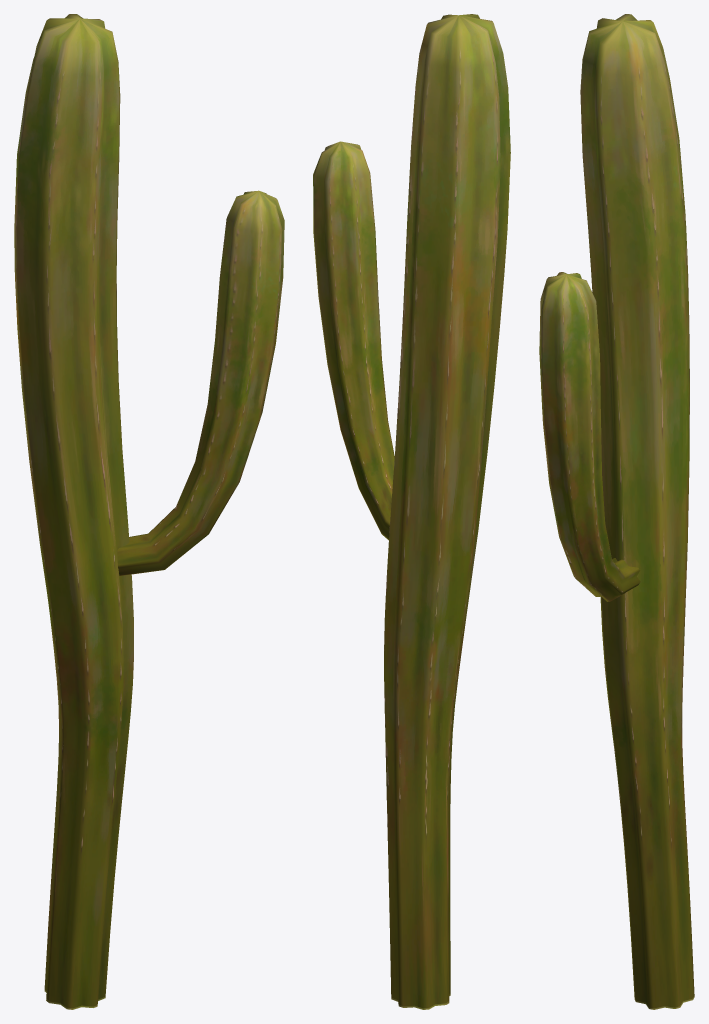
File: P_Cactus01.obj
The picture shows the model from 3 angles, left to right: view 1: azimuth 30°, elevation 25°; view 2: azimuth 150°, elevation 25°; view 3: azimuth 270°, elevation 25°; orthographic projection. The views are drawn at different scales.
Size of the model in its own units: 1.42 by 6.01 by 0.8723.
